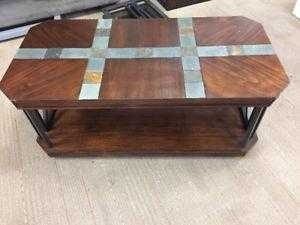obstacle: (0, 16, 287, 155)
